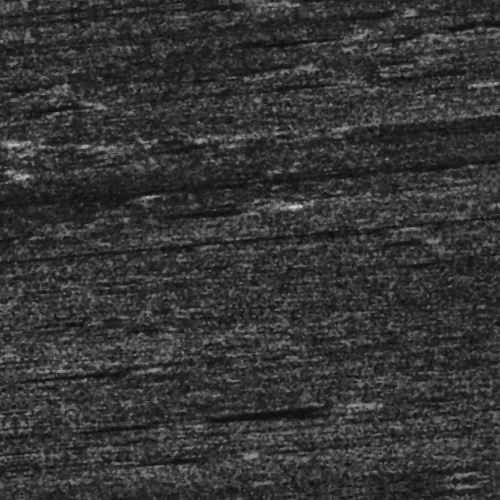object: (182, 202, 307, 211), (311, 406, 384, 417), (350, 237, 433, 242), (116, 355, 169, 360)
shadow: (220, 406, 348, 417), (149, 202, 244, 211), (35, 355, 142, 360), (301, 237, 392, 242)
